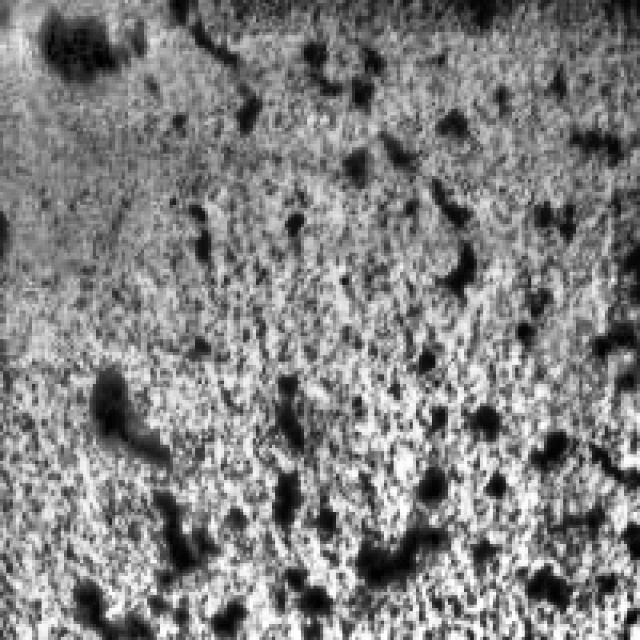Rolled_in_Scale: (67, 77, 608, 628)
Scratches: (22, 3, 125, 83)
